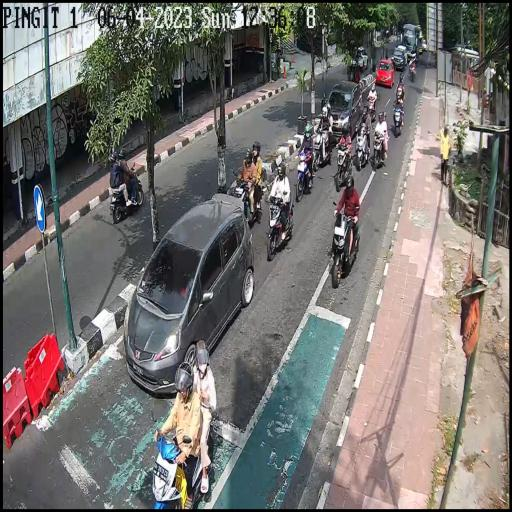mobil: (124, 194, 253, 399), (322, 84, 363, 140), (401, 25, 420, 61), (377, 59, 394, 89), (392, 46, 404, 72)
motor: (151, 420, 217, 510), (329, 200, 360, 290), (265, 190, 296, 264), (108, 168, 144, 223), (232, 172, 260, 228), (295, 146, 314, 202), (333, 141, 353, 191), (313, 128, 333, 170), (372, 128, 388, 172), (356, 126, 370, 169), (391, 104, 404, 140), (367, 94, 376, 120)
